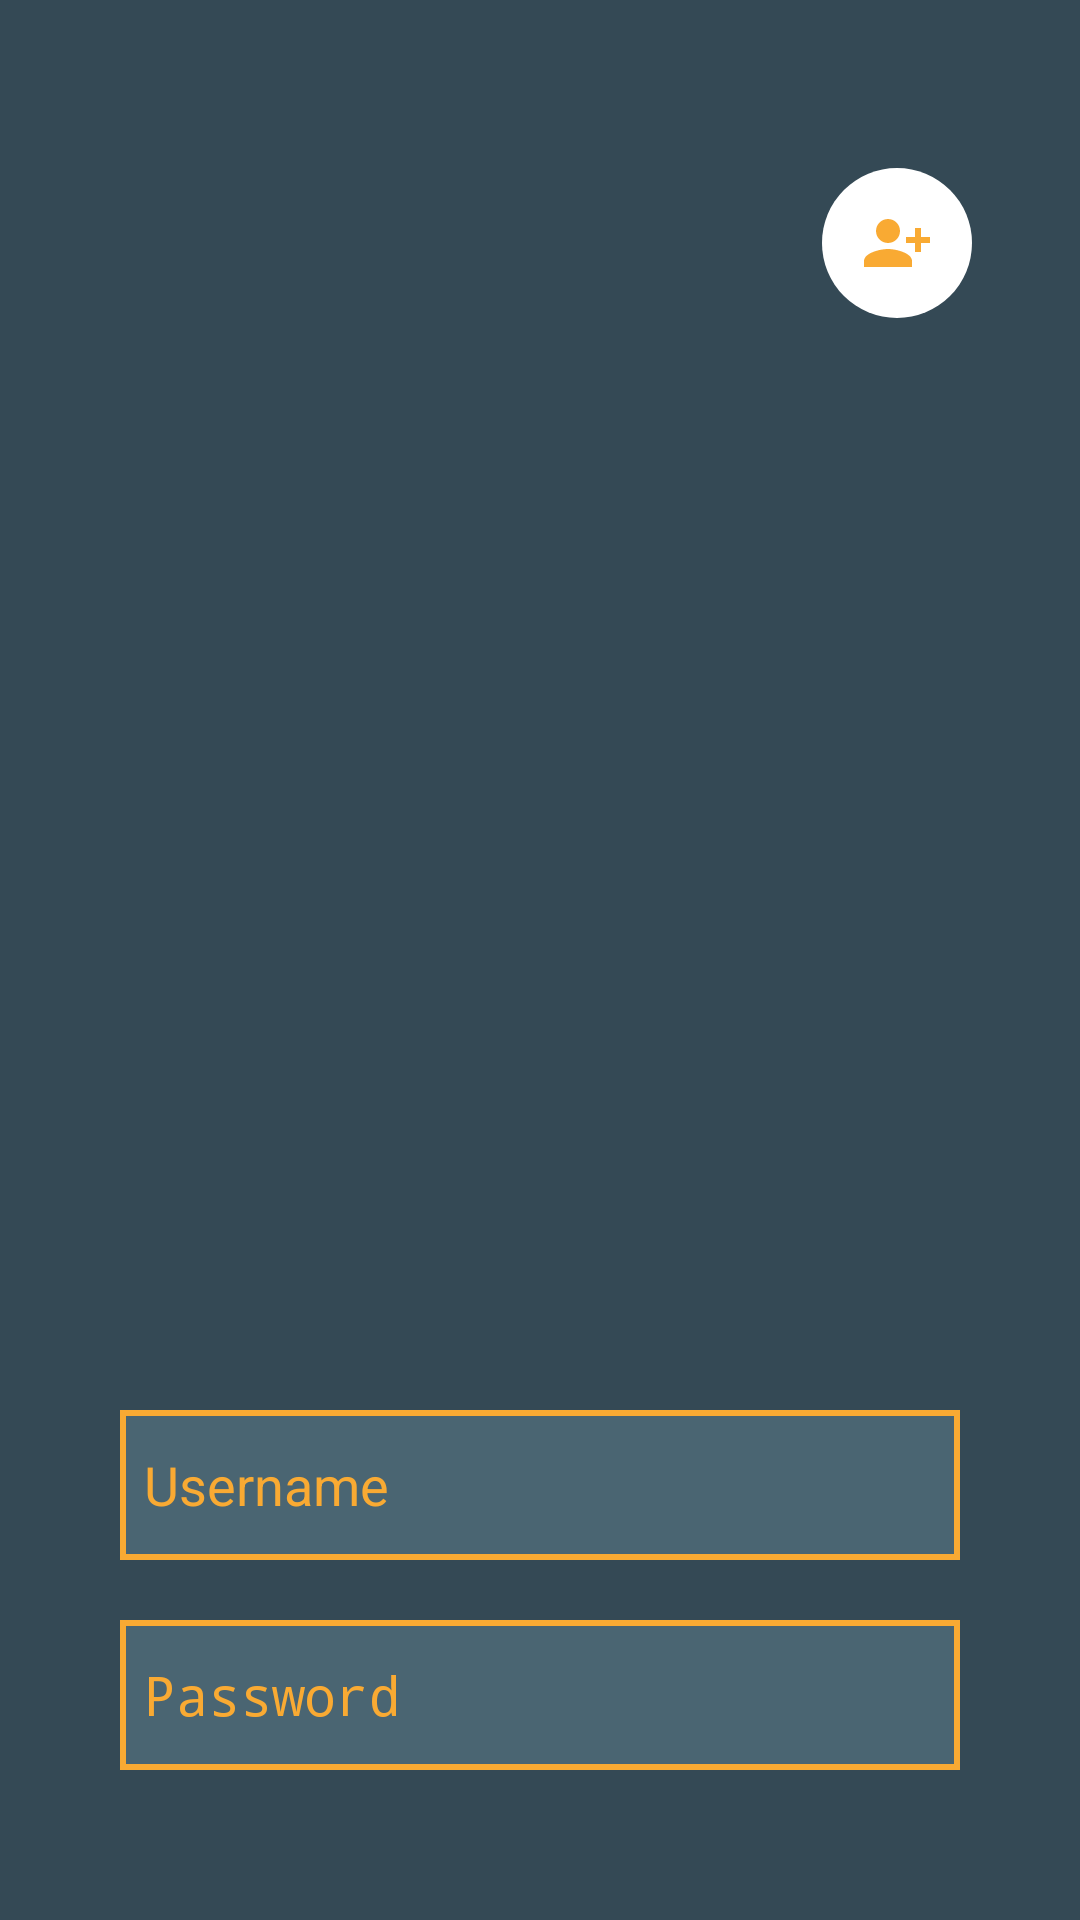

Point at icon controls on the screen. Image size 1080 x 1920, points as [x,y].
person add: [897,243]
